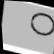no answer: (26, 9, 54, 40)
